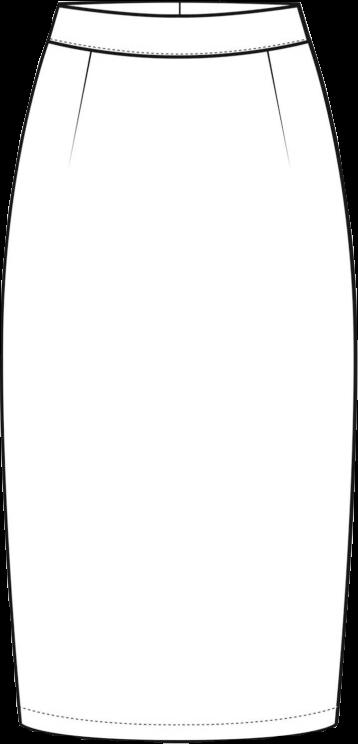Hemline: (17, 720, 344, 743)
Waistline: (45, 37, 309, 60), (55, 0, 295, 23)
